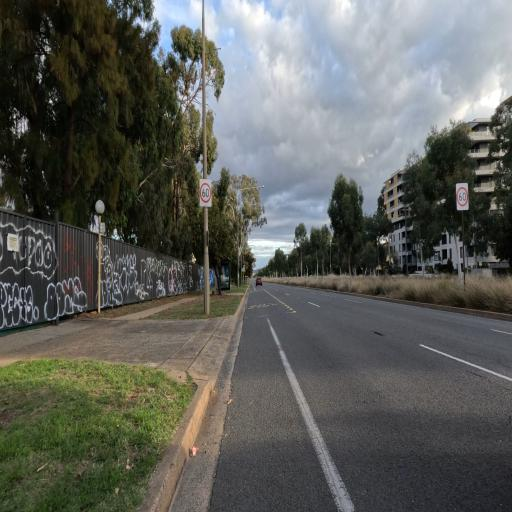kerb_cut: (167, 323, 244, 389)
